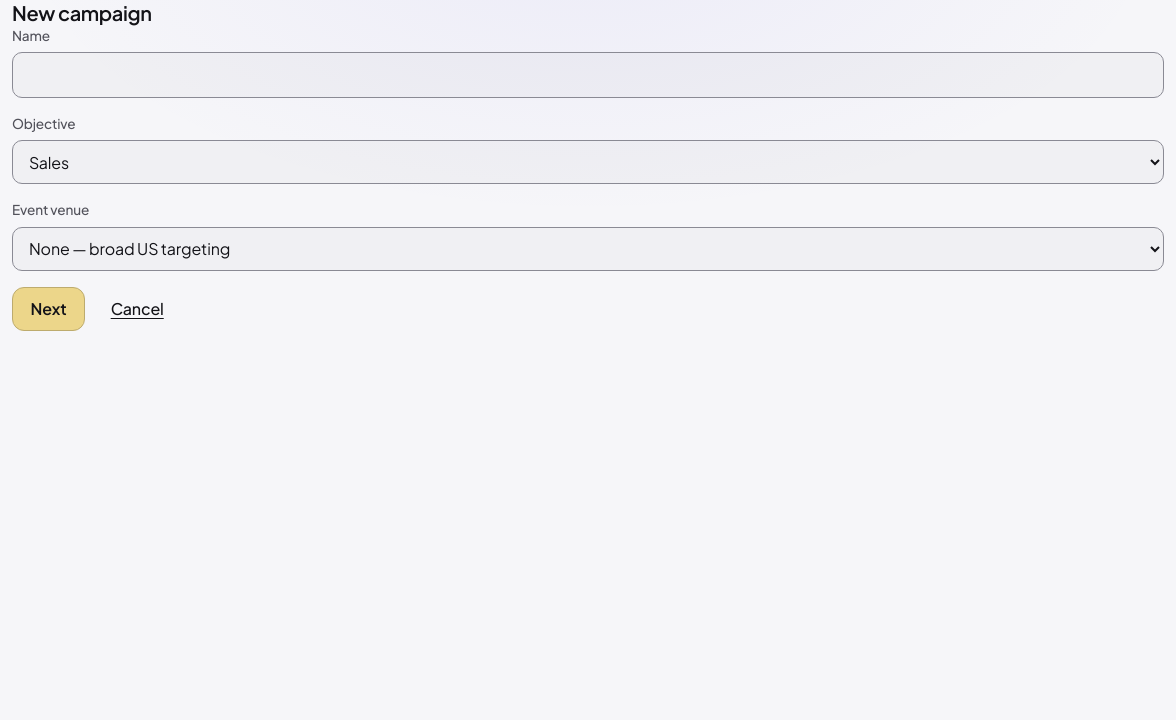
Test: NewCampaignFlow › reveals the existing-product picker when the reuse link is clicked
Click the button "Next": (49, 309) [12,287,85,331]
(page scrolled)
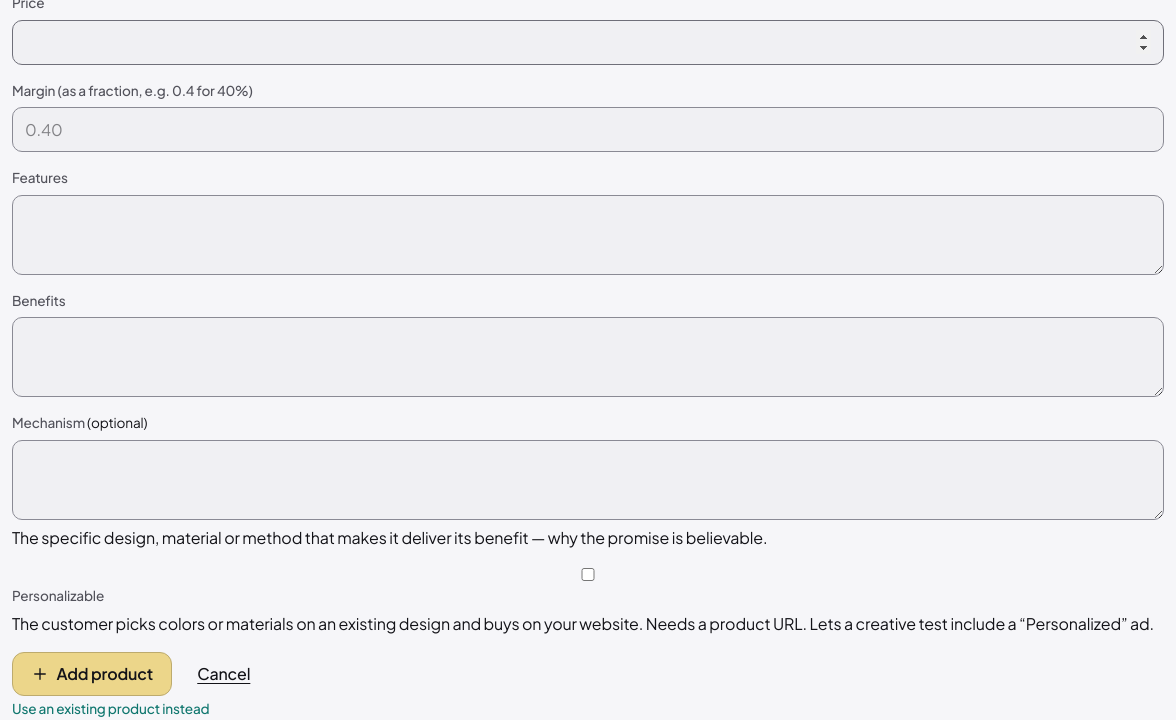
Click the button "Use an existing product instead": (111, 710) [12,699,210,719]
(page scrolled)
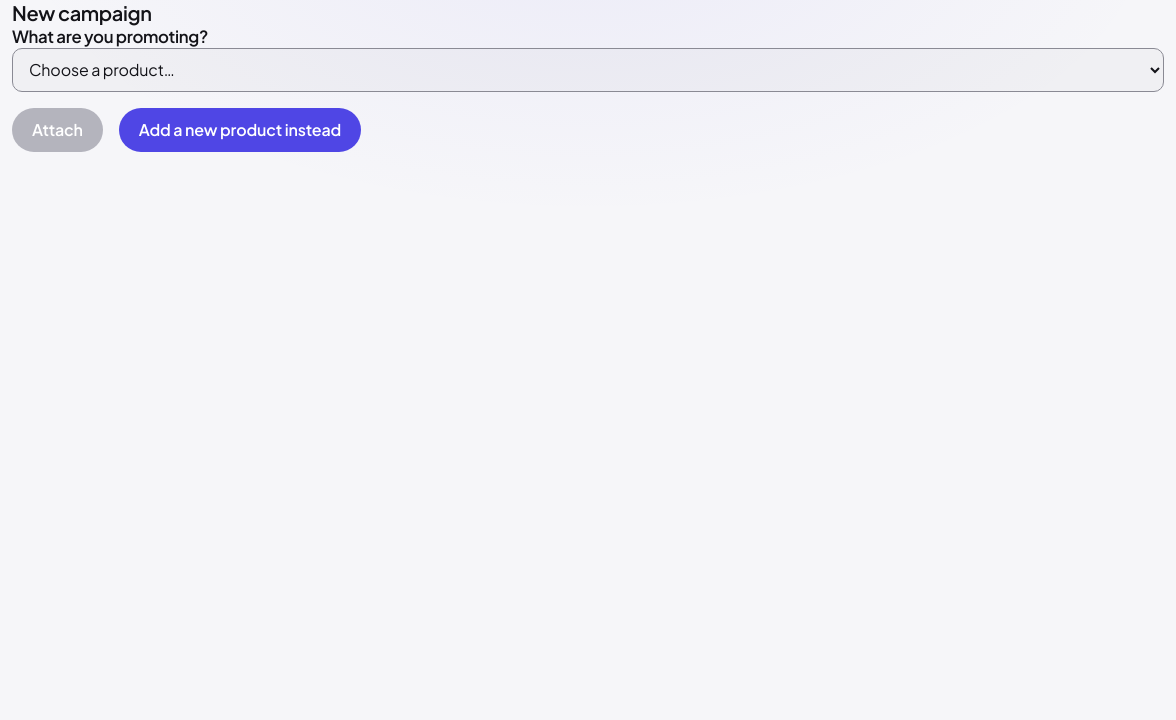
Expected: the dropdown named "Choose an existing product" is shown, [12,48,1164,92]
